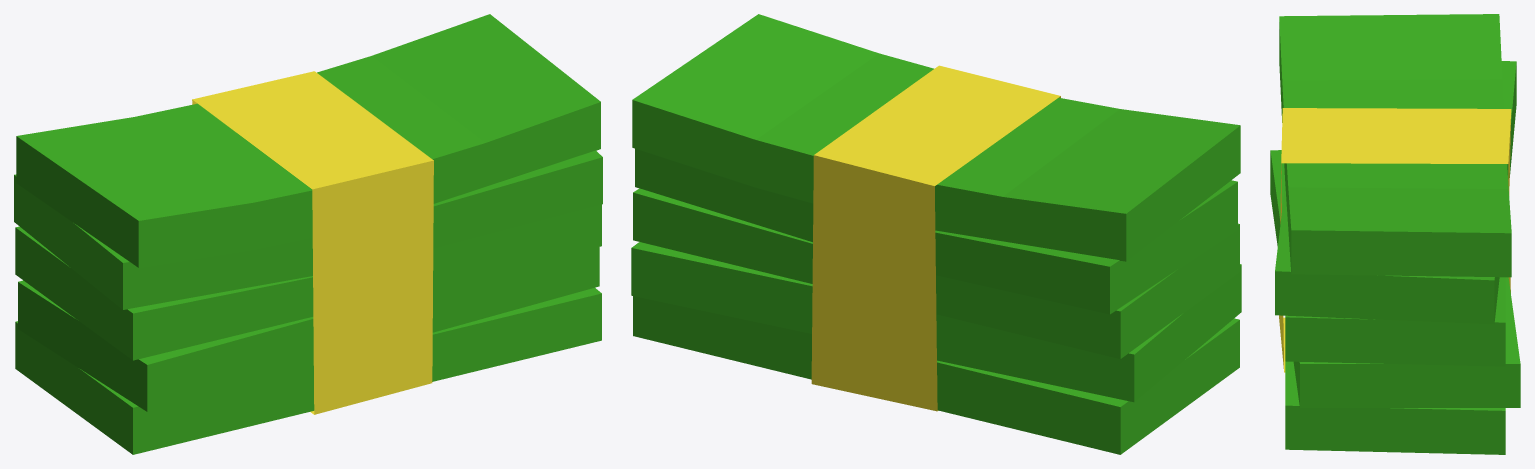
Rendered from 8.Money_New.fbx.
3 views of the same model, side by side, from view 1: azimuth 30°, elevation 25°; view 2: azimuth 150°, elevation 25°; view 3: azimuth 270°, elevation 25° (orthographic). The views are drawn at different scales.
Visible parts, largest first — view 1: Money green .004, Money yellow; view 2: Money green .004, Money yellow; view 3: Money green .004, Money yellow.
Part boxes in pixels (x1=…): Money green .004: x1=14, y1=14, x2=602, y2=454; Money yellow: x1=192, y1=71, x2=433, y2=414; Money green .004: x1=631, y1=14, x2=1241, y2=454; Money yellow: x1=811, y1=65, x2=1060, y2=411; Money green .004: x1=1270, y1=14, x2=1520, y2=454; Money yellow: x1=1279, y1=108, x2=1511, y2=372.
Bounding box in the file's own units: 0.2175 × 0.1003 × 0.1027.
